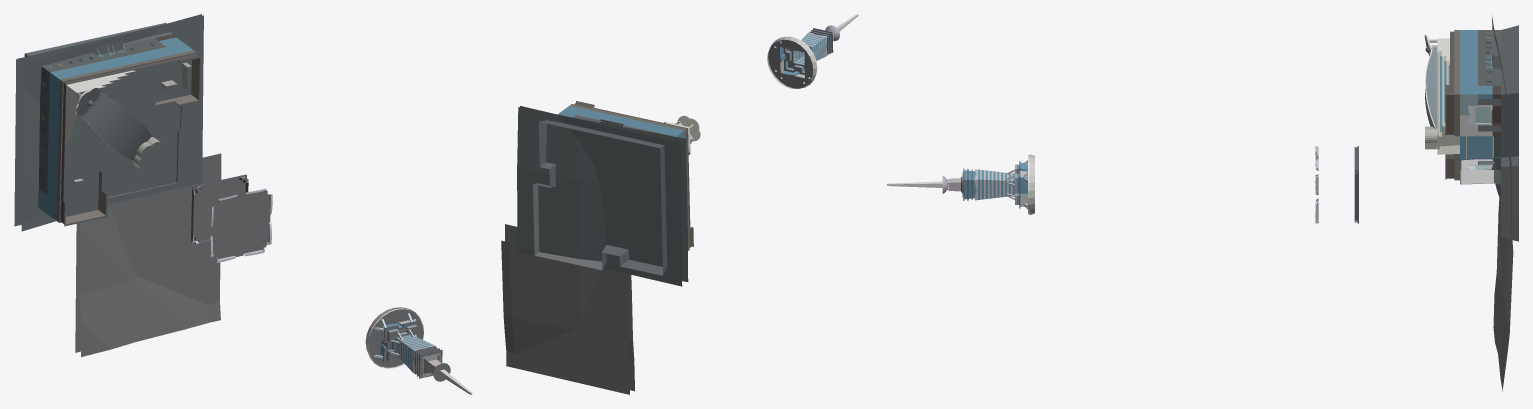
The model's file is taipei101.gltf.
The picture shows the model from 3 angles, left to right: view 1: azimuth 30°, elevation 25°; view 2: azimuth 150°, elevation 25°; view 3: azimuth 270°, elevation 25°; orthographic projection. The views are drawn at different scales.
Size of the model in its own units: 21.62 by 30.94 by 61.41.
